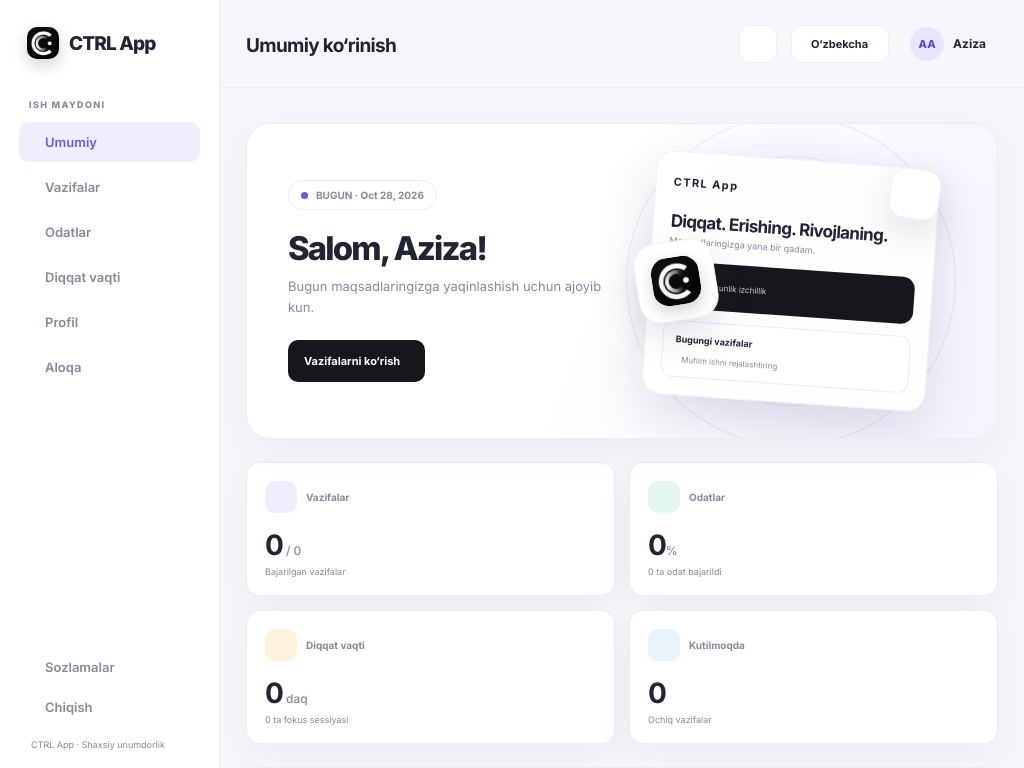
Test: contact messages are added to the messages collection with the authenticated user id
Click the button "Aloqa" at (110, 367), box [19, 347, 200, 387]
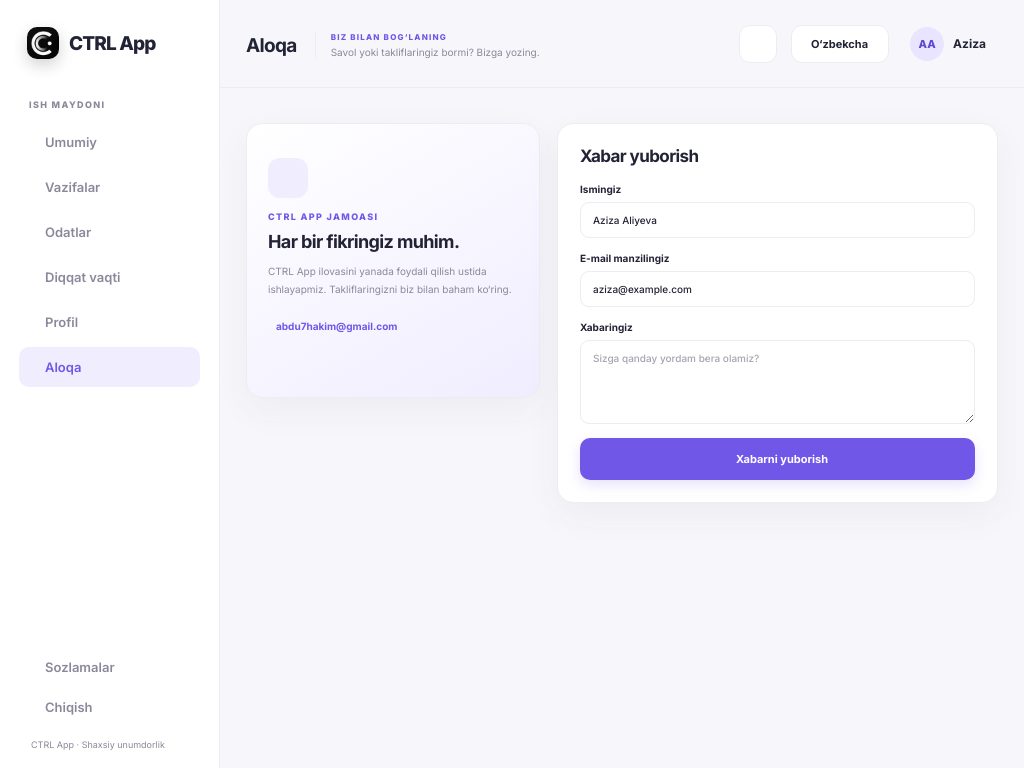
Type "Ilova juda foydali." into the text box labelled "Xabaringiz" at (778, 382), box [580, 340, 975, 424]
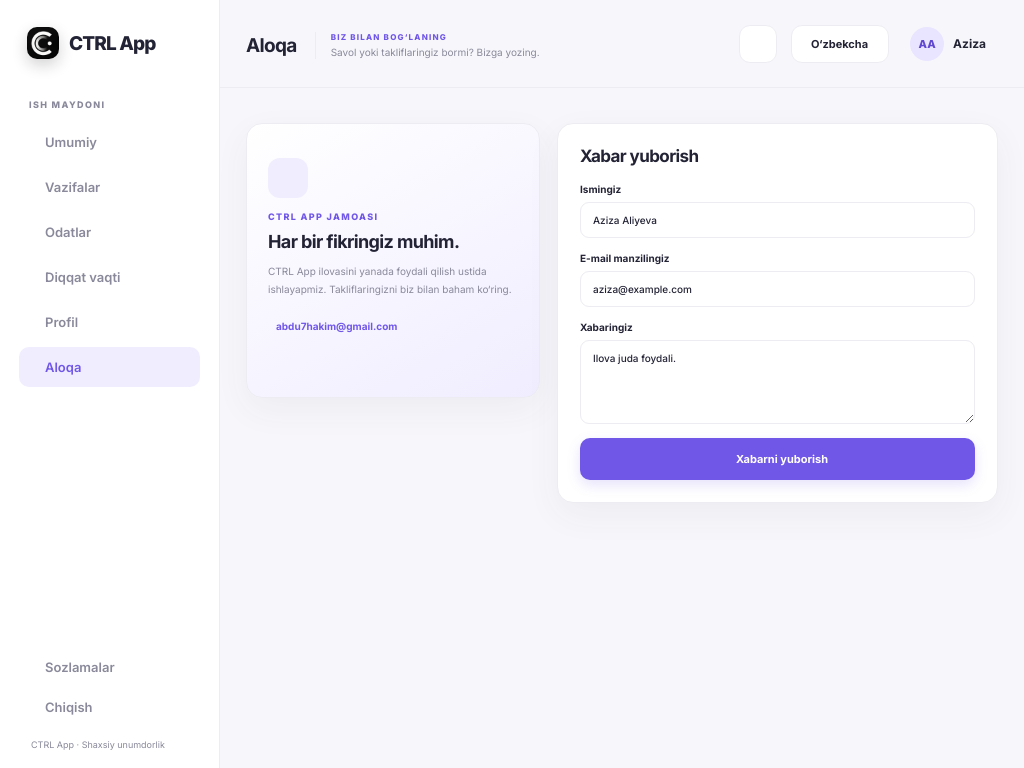
Click the button "Xabarni yuborish" at (778, 459), box [580, 438, 975, 480]
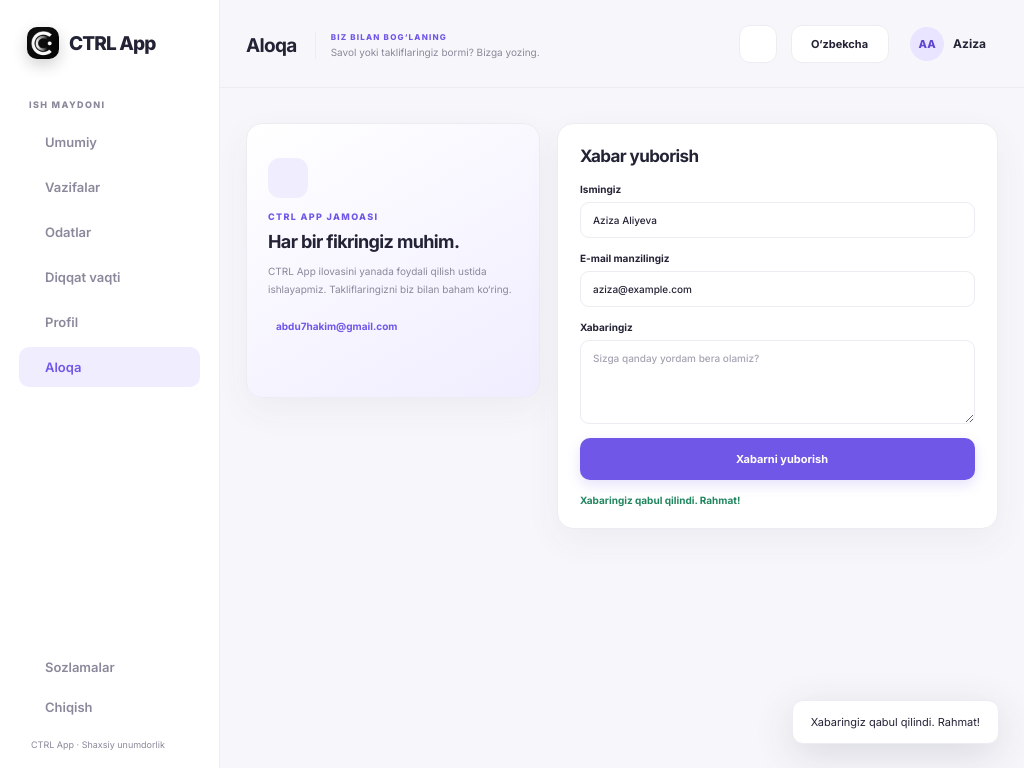
expect the text "Xabaringiz qabul qilindi. Rahmat!" is shown 2 times: met, box [580, 494, 740, 506]; [792, 700, 999, 744]
